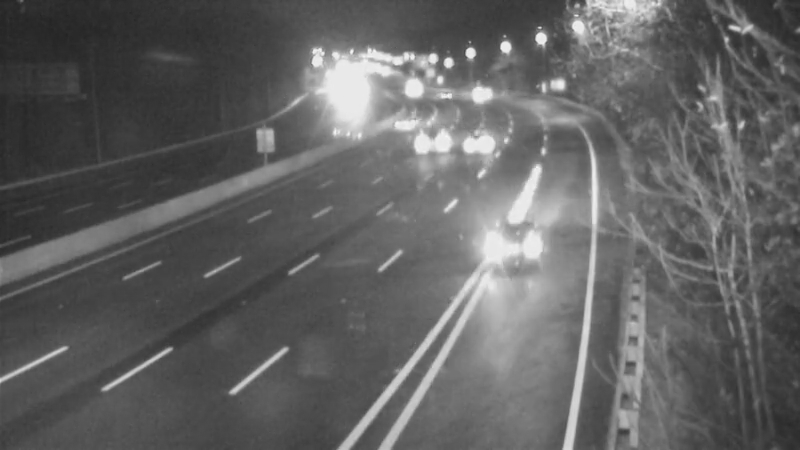vehicle: (471, 207, 551, 287), (462, 65, 512, 115), (388, 67, 438, 117), (419, 68, 469, 118), (381, 101, 431, 151), (404, 119, 454, 169), (454, 115, 504, 165)
